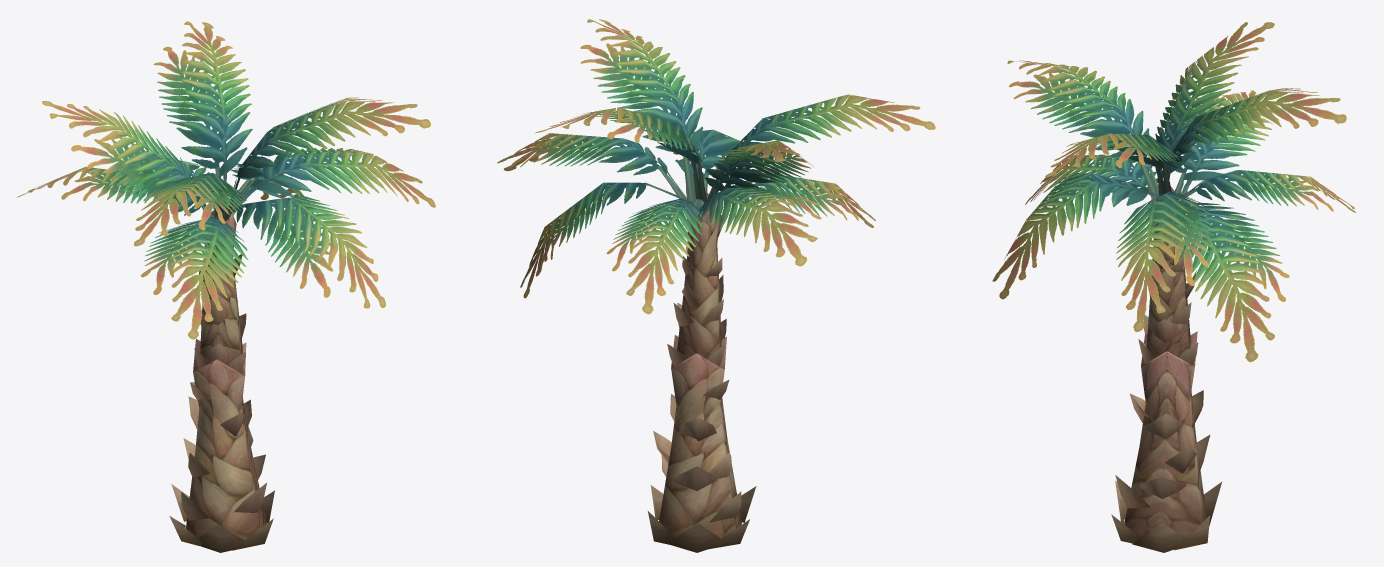
File: Map_05_tree05.FBX
3 views of the same model, side by side, from view 1: azimuth 30°, elevation 25°; view 2: azimuth 150°, elevation 25°; view 3: azimuth 270°, elevation 25° (orthographic). The views are drawn at different scales.
Visible parts, largest first — view 1: Map_05_tree05a, Map_05_tree05b; view 2: Map_05_tree05a, Map_05_tree05b; view 3: Map_05_tree05a, Map_05_tree05b.
Boxes of the visible parts, x1,y1,x2,y2 form: Map_05_tree05a: (17,21,435,339); Map_05_tree05b: (169,210,274,552); Map_05_tree05a: (497,19,935,314); Map_05_tree05b: (648,193,756,552); Map_05_tree05a: (992,22,1355,362); Map_05_tree05b: (1111,186,1222,552).
Size of the model in its own units: 455 by 498 by 400.
